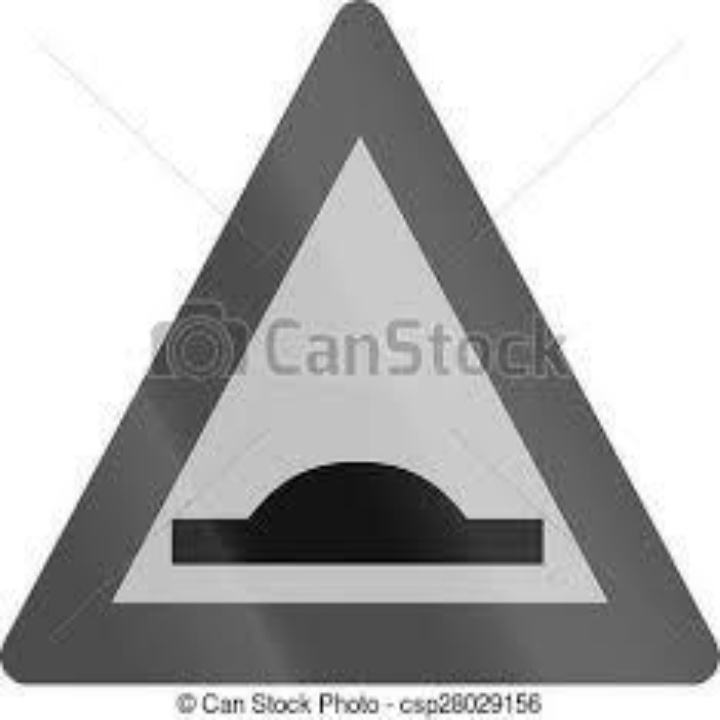bump: (149, 444, 559, 592)
